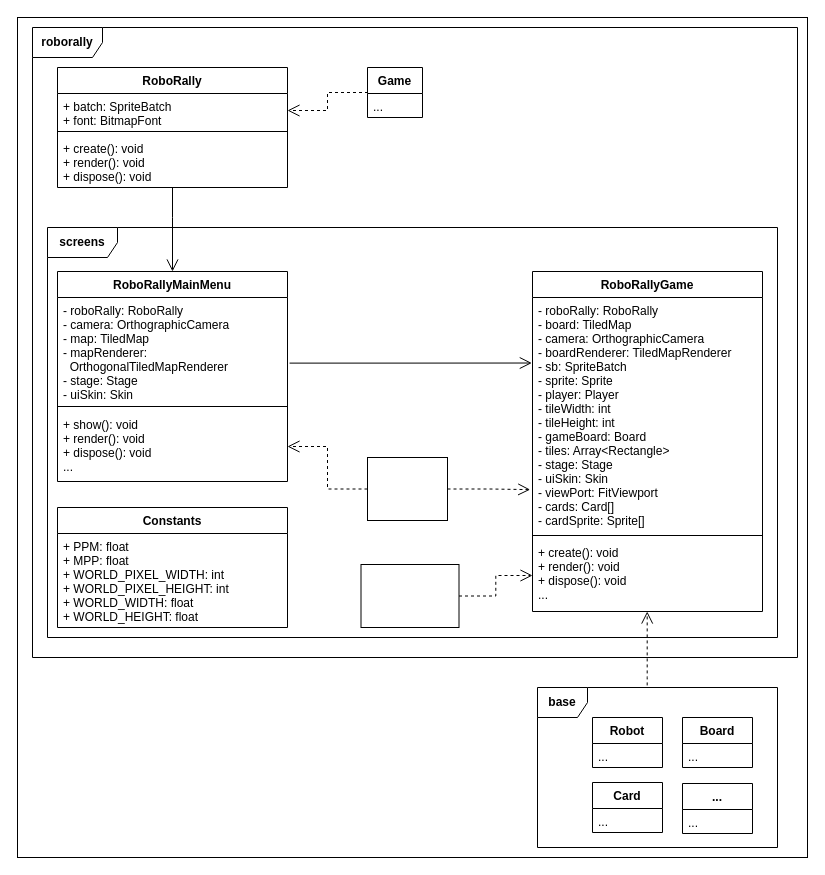
Some shapes in this 825 by 875 pixel diagram are drawn without their labels. The shapes that lost their labels are listed below. From the top down, each one's centre as x and y in pixels, then its label:
the point at 407,488: <<Interface>> Screen ...
the point at 409,596: <<Interface>> InputProcessor ...
